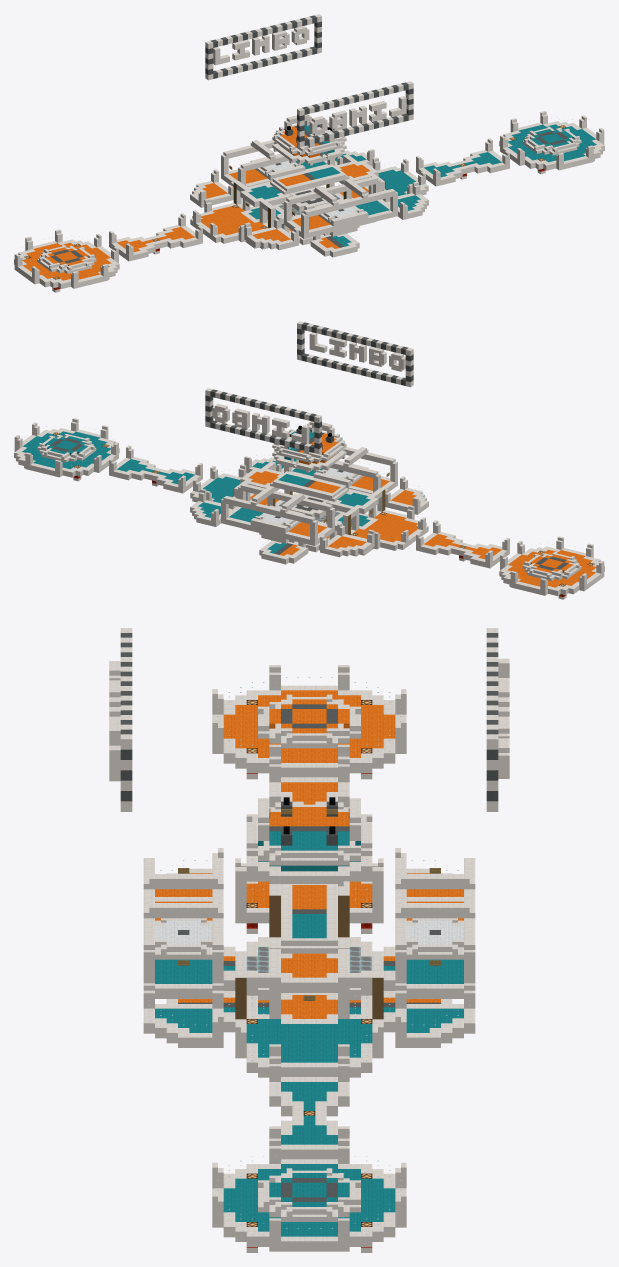
The model's file is minecraft.obj.
The picture shows the model from 3 angles, top to bottom: view 1: azimuth 30°, elevation 25°; view 2: azimuth 150°, elevation 25°; view 3: azimuth 270°, elevation 25°; orthographic projection. The views are drawn at different scales.
Bounding box in the file's own units: 115 × 32 × 35.
